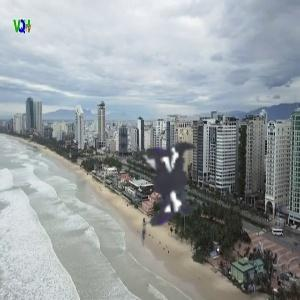drone: (56, 77, 272, 293)
